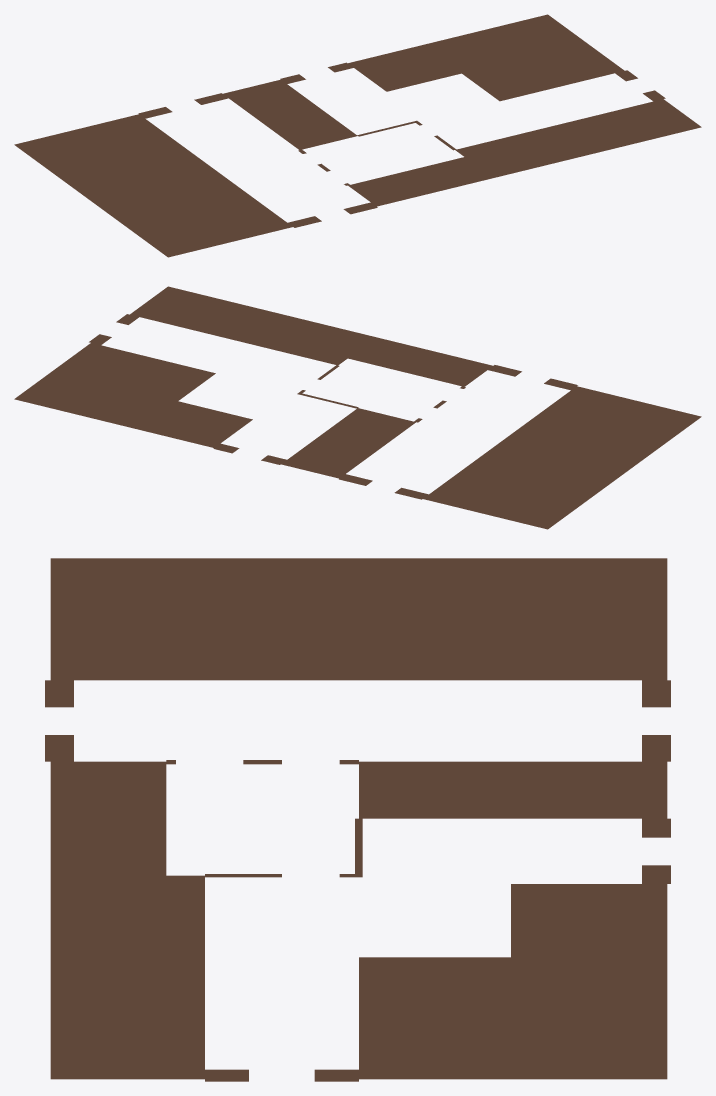
The model's file is hotel1_AIBlocker.fbx.
3 views of the same model, one above another, from view 1: azimuth 30°, elevation 25°; view 2: azimuth 150°, elevation 25°; view 3: azimuth 270°, elevation 25° (orthographic). The views are drawn at different scales.
Visible parts, largest first — view 1: AI Blocker; view 2: AI Blocker; view 3: AI Blocker.
Part boxes in pixels (x1,y1,x2,y2): AI Blocker: (14,14,701,257); AI Blocker: (14,286,701,529); AI Blocker: (45,558,670,1081).
Bounding box in the file's own units: 6430 × 0 × 3250.
